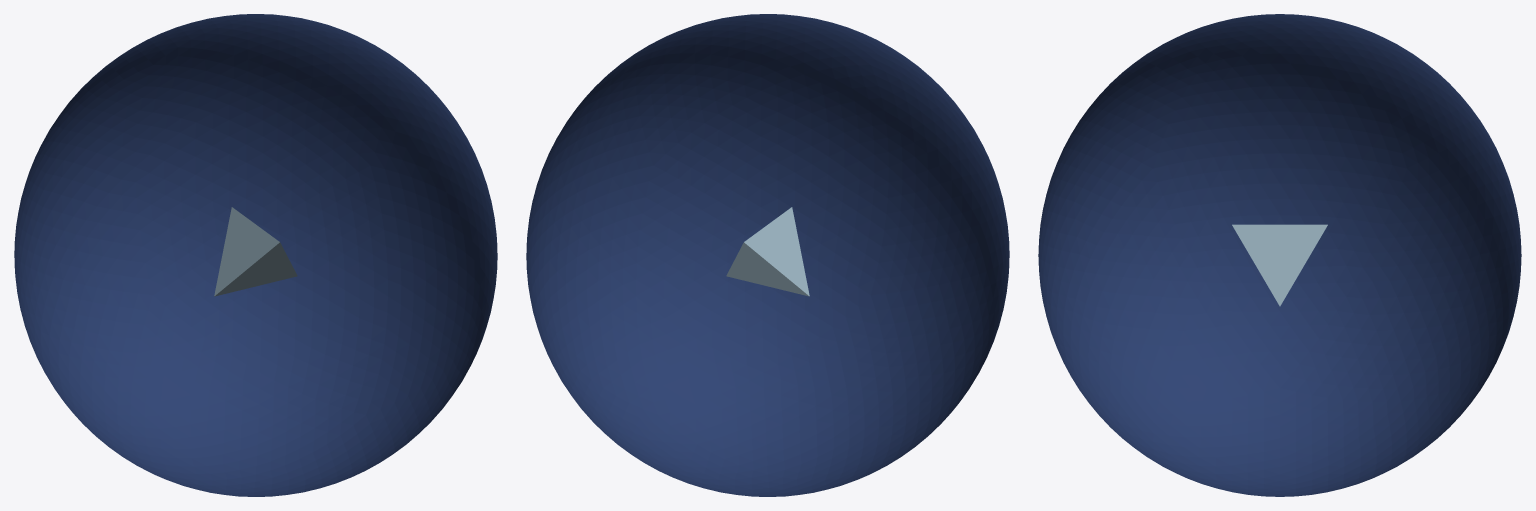
The model's file is Tetraedroetereo_con_fondo.glb.
3 views of the same model, side by side, from view 1: azimuth 30°, elevation 25°; view 2: azimuth 150°, elevation 25°; view 3: azimuth 270°, elevation 25° (orthographic).
Parts seen in each view (by area): view 1: world; view 2: world; view 3: world.
Part boxes in pixels (<box>): world: <box>14,14,497,496</box>; world: <box>526,14,1009,496</box>; world: <box>1038,14,1521,496</box>.
Size of the model in its own units: 10 by 10 by 10.
